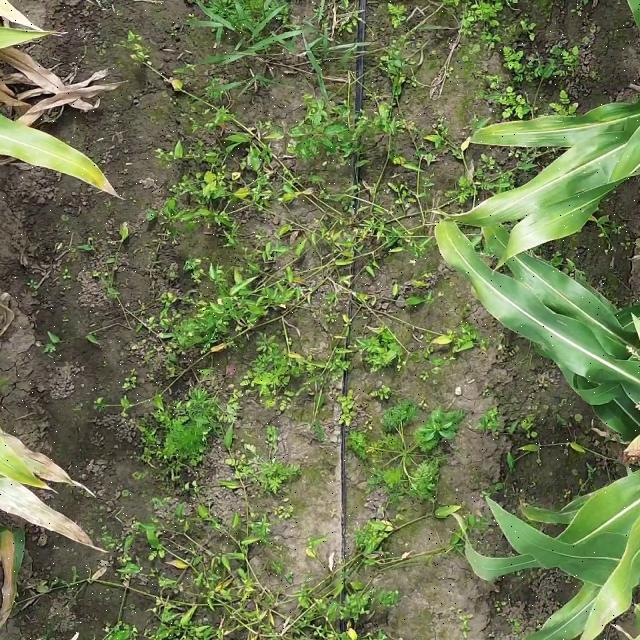gray-leaf-spot: (515, 260, 578, 311), (487, 116, 576, 146)
